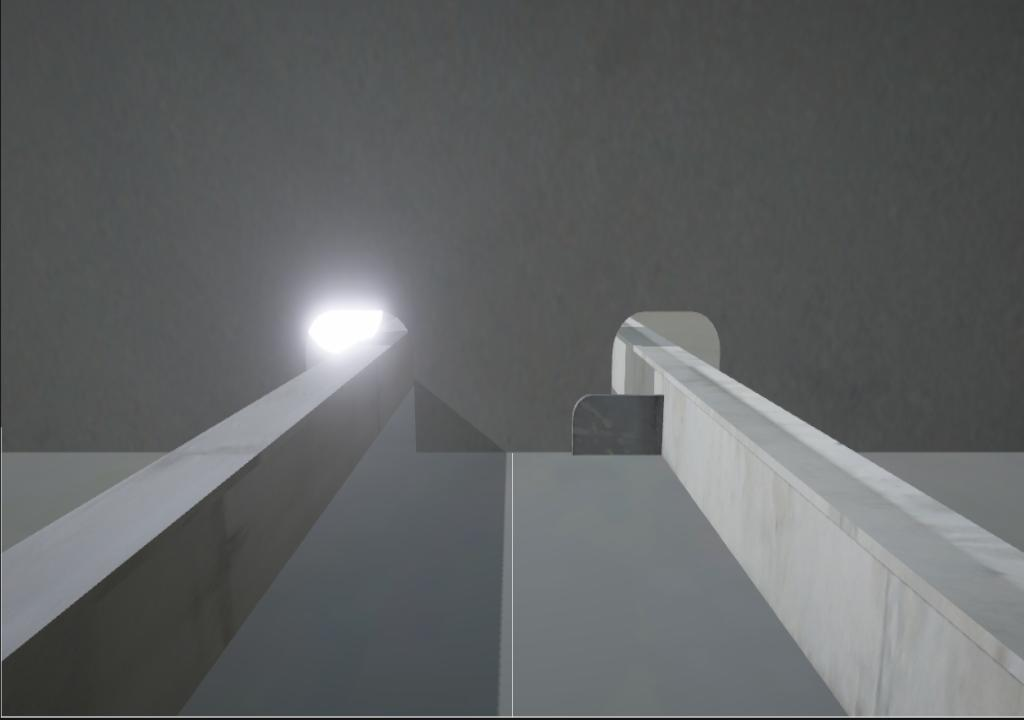fillet_yong_jeop_jang: (408, 445, 572, 460)
plate_CP05: (571, 393, 664, 455)
